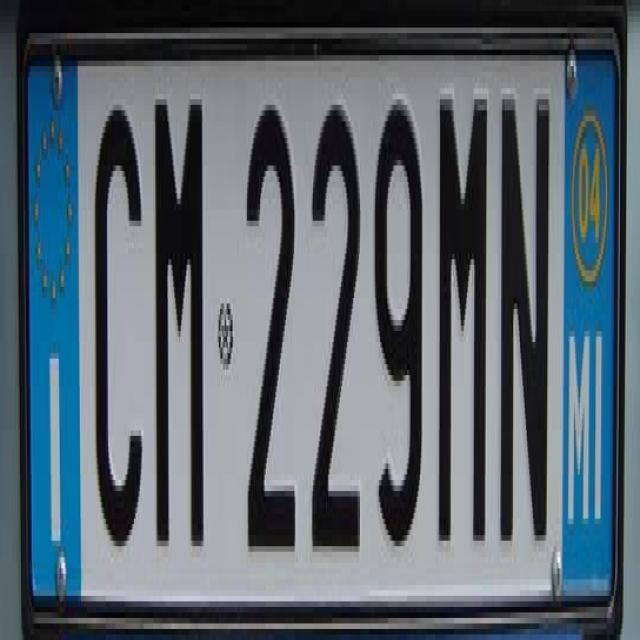EU: (11, 13, 628, 629)
Italie: (24, 56, 80, 592)
